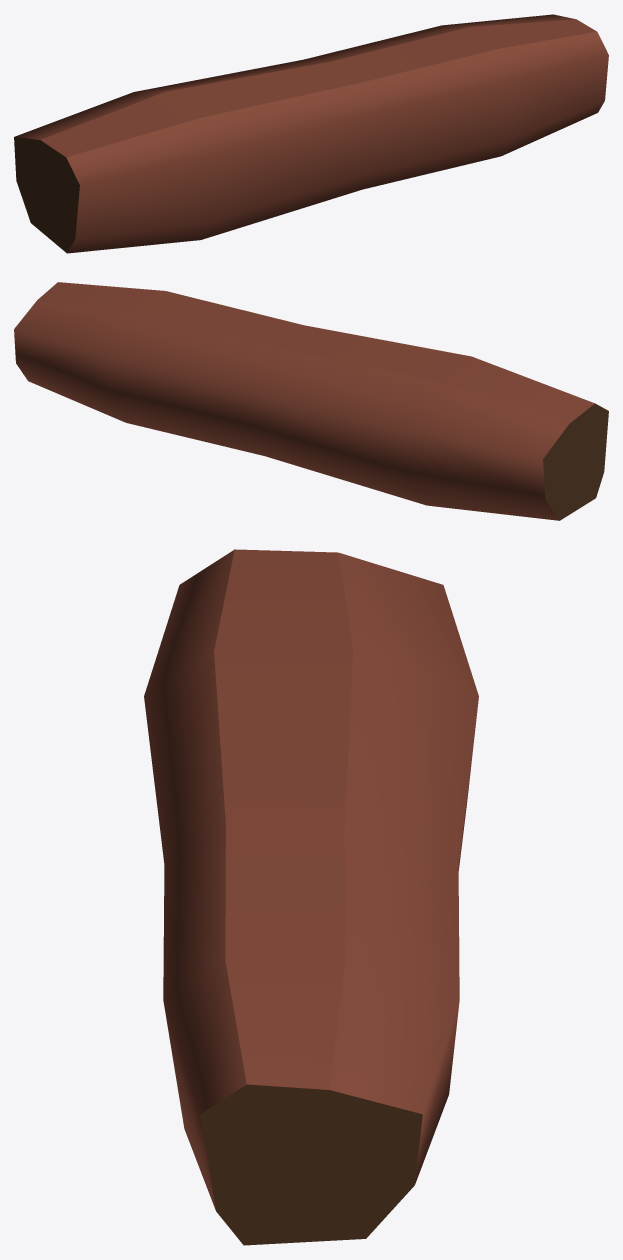
The model's file is Charcoal.fbx.
The picture shows the model from 3 angles, top to bottom: view 1: azimuth 30°, elevation 25°; view 2: azimuth 150°, elevation 25°; view 3: azimuth 270°, elevation 25°; orthographic projection. The views are drawn at different scales.
Parts seen in each view (by area): view 1: Charcoal; view 2: Charcoal; view 3: Charcoal.
Part boxes in pixels (x1,y1,x2,y2): Charcoal: (14, 14, 608, 253); Charcoal: (14, 282, 608, 520); Charcoal: (144, 549, 478, 1245).
Size of the model in its own units: 16.36 by 3.57 by 4.44.
